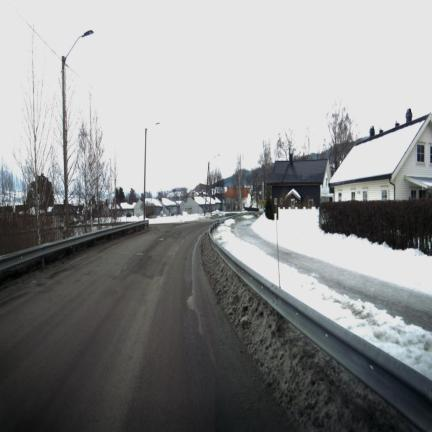Road: (0, 222, 289, 430)
